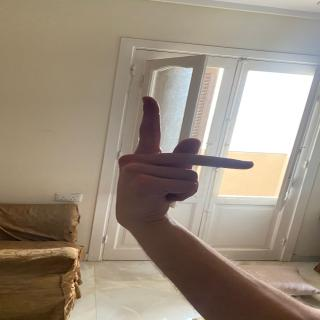DHAA: (114, 92, 261, 221)
